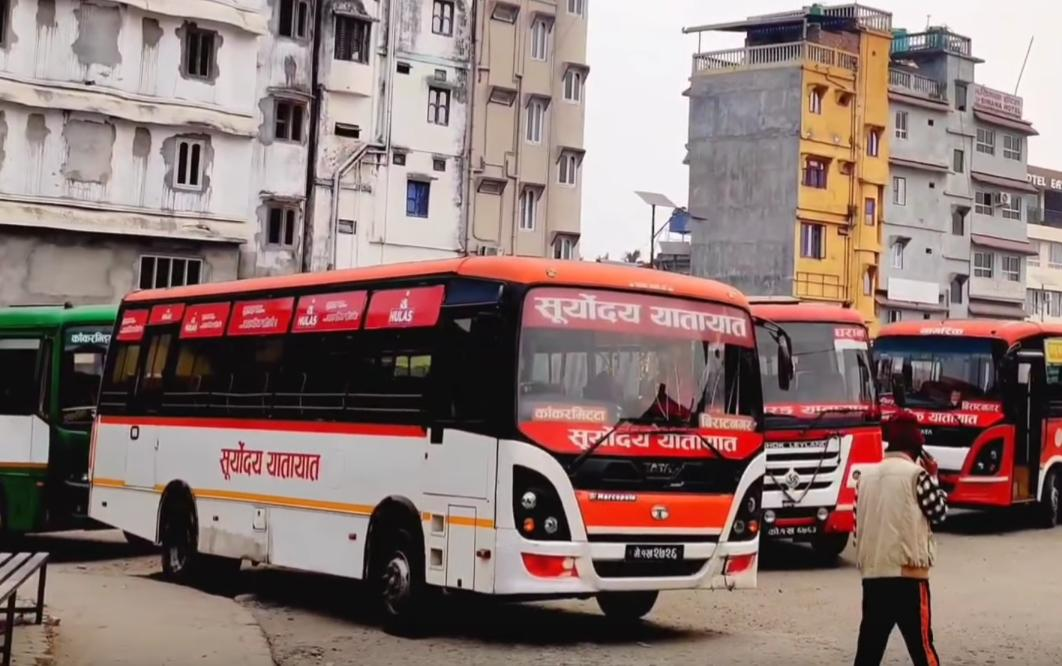bus: (83, 251, 780, 642)
